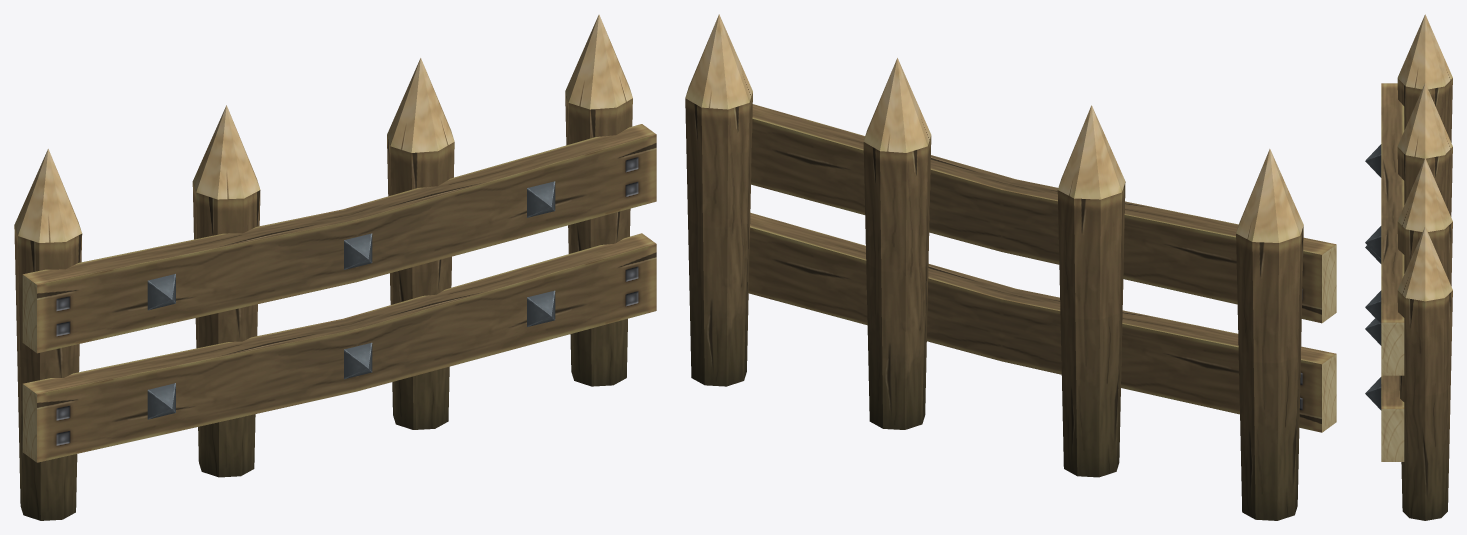
Rendered from wooden_fence_46.fbx.
The picture shows the model from 3 angles, left to right: view 1: azimuth 30°, elevation 25°; view 2: azimuth 150°, elevation 25°; view 3: azimuth 270°, elevation 25°; orthographic projection. The views are drawn at different scales.
Parts seen in each view (by area): view 1: wooden_fence_46:Mesh; view 2: wooden_fence_46:Mesh; view 3: wooden_fence_46:Mesh.
Part boxes in pixels (x1,y1,x2,y2): wooden_fence_46:Mesh: (14, 14, 656, 520); wooden_fence_46:Mesh: (685, 14, 1336, 520); wooden_fence_46:Mesh: (1365, 14, 1452, 520).
Bounding box in the file's own units: 7.17 × 3.98 × 1.11.
